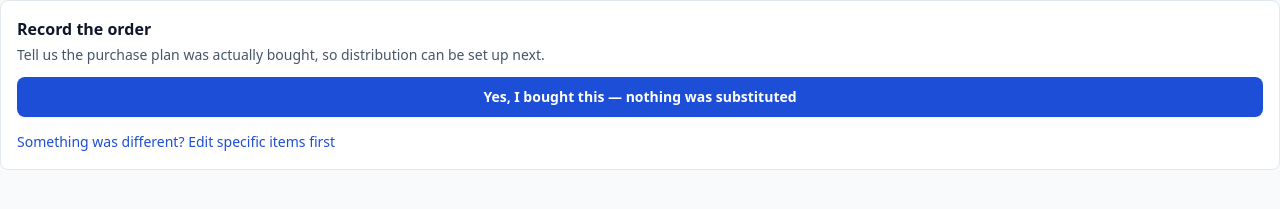
RecordOrderAction › records the order with no line overrides via the primary confirm path
This screenshot has width=1280, height=209.
Later steps or results of the test are not shown.
Click the button "Yes, I bought this — nothing was substituted" at (640, 97), box [17,77,1263,117]
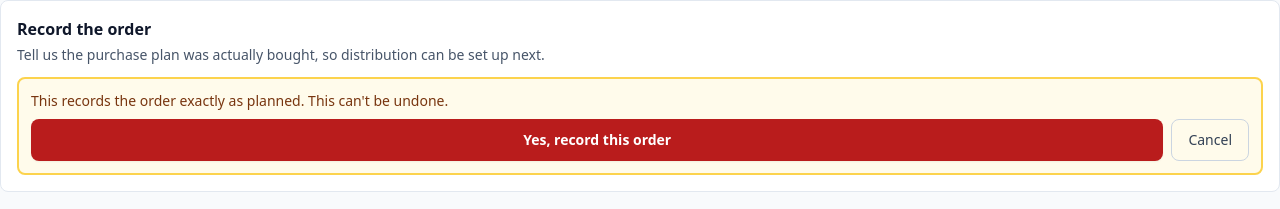
Check: the text "This can't be undone" is shown, box [31,91,448,110]
